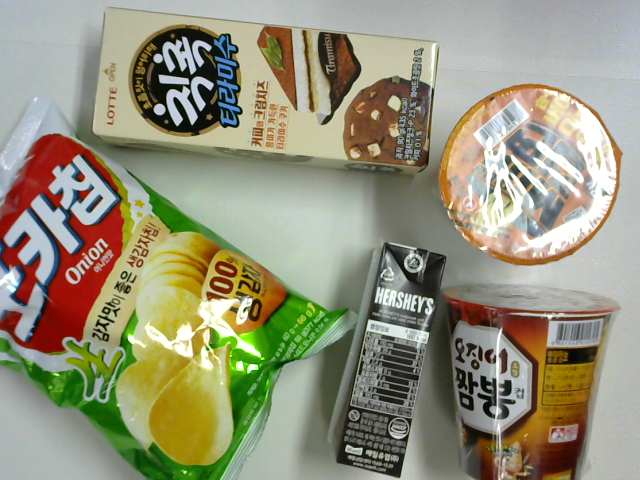Chicchok_Tiramisu: (77, 3, 450, 185)
Hush_Choco_Drink: (316, 232, 448, 466)
Ojjam: (429, 280, 619, 480)
Pocachip_Onion: (1, 98, 320, 468)
Udongmini: (436, 90, 626, 261)
